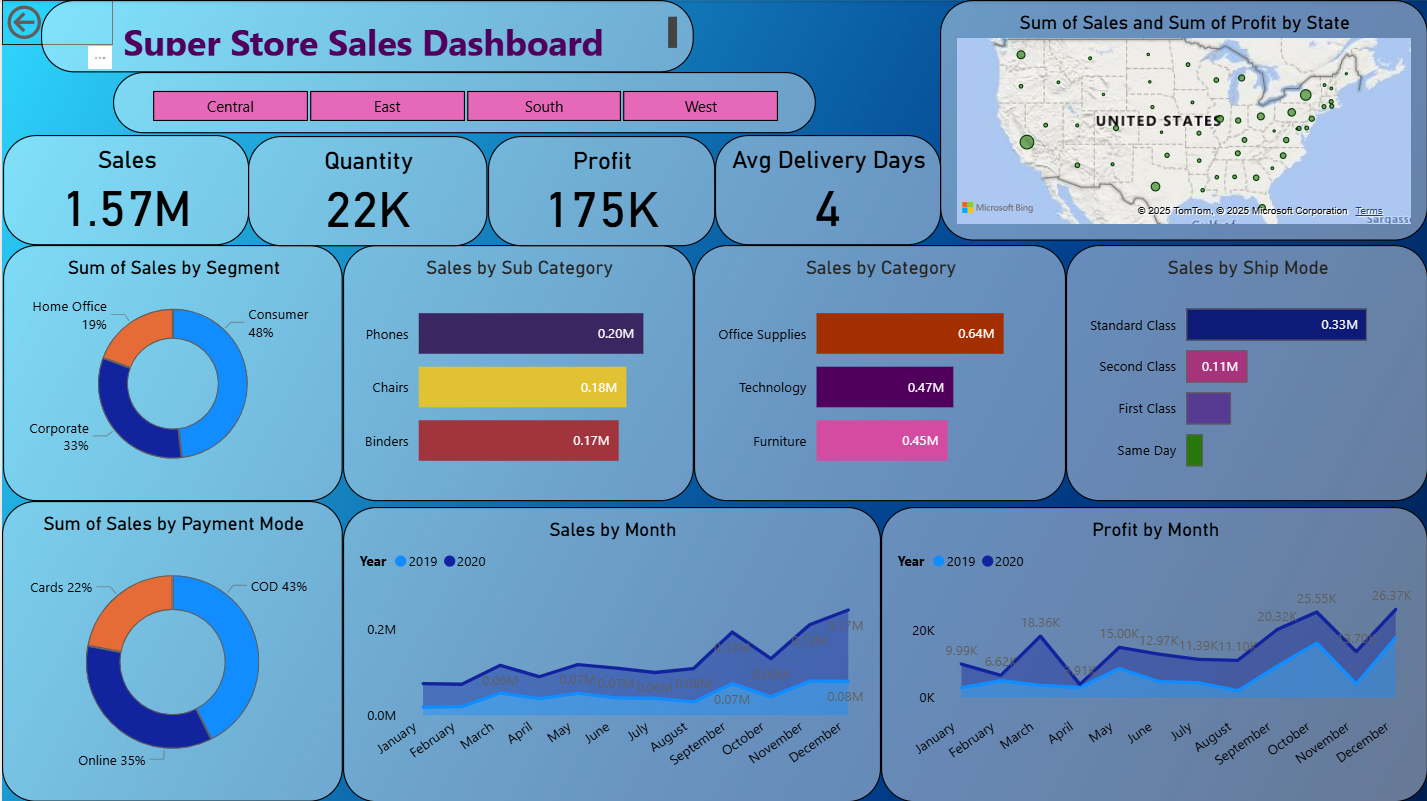

What the dashboard file says about the page in this screenshot:
{"tool":"powerbi","page":{"name":"Dashboard","canvas":[1280,720],"ordinal":0},"visuals":[{"type":"clusteredBarChart","title":"Sales by Category","fields":{"Category":["SuperStore_Sales_Dataset.Category"],"Y":["Sum(SuperStore_Sales_Dataset.Sales)"]},"box":[621.2,220,333.8,230],"z":0},{"type":"clusteredBarChart","title":"Sales by Sub Category","fields":{"Y":["Sum(SuperStore_Sales_Dataset.Sales)"],"Category":["SuperStore_Sales_Dataset.Sub-Category"]},"box":[306.2,220,315,230],"z":1000},{"type":"clusteredBarChart","title":"Sales by Ship Mode","fields":{"Y":["Sum(SuperStore_Sales_Dataset.Sales)"],"Category":["SuperStore_Sales_Dataset.Ship Mode"]},"box":[955,220,325,230],"z":2000},{"type":"stackedAreaChart","title":"Sales by Month ","fields":{"Category":["SuperStore_Sales_Dataset.Order Date.Variation.Date Hierarchy.Month","SuperStore_Sales_Dataset.Order Date.Variation.Date Hierarchy.Day"],"Y":["Sum(SuperStore_Sales_Dataset.Sales)"],"Series":["SuperStore_Sales_Dataset.Order Date.Variation.Date Hierarchy.Year"]},"box":[306.2,455,482.5,265],"z":3000},{"type":"stackedAreaChart","title":"Profit by Month ","fields":{"Category":["SuperStore_Sales_Dataset.Order Date.Variation.Date Hierarchy.Month","SuperStore_Sales_Dataset.Order Date.Variation.Date Hierarchy.Day"],"Series":["SuperStore_Sales_Dataset.Order Date.Variation.Date Hierarchy.Year"],"Y":["Sum(SuperStore_Sales_Dataset.Profit)"]},"box":[788.8,455,491.2,265],"z":4000},{"type":"map","fields":{"Category":["SuperStore_Sales_Dataset.State"],"Size":["Sum(SuperStore_Sales_Dataset.Sales)"]},"box":[842.5,0,437.5,216.2],"z":5000},{"type":"donutChart","fields":{"Category":["SuperStore_Sales_Dataset.Segment"],"Y":["Sum(SuperStore_Sales_Dataset.Sales)"]},"box":[1.2,220,305,230],"z":6000},{"type":"donutChart","fields":{"Y":["Sum(SuperStore_Sales_Dataset.Sales)"],"Category":["SuperStore_Sales_Dataset.Payment Mode"]},"box":[0,450,306.2,270],"z":7000},{"type":"card","title":"Sales","fields":{"Values":["Sum(SuperStore_Sales_Dataset.Sales)"]},"box":[1.2,121.2,221.2,98.8],"z":8000},{"type":"slicer","fields":{"Values":["SuperStore_Sales_Dataset.Region"]},"box":[100,65,631.2,55],"z":9000},{"type":"actionButton","box":[0,0,100,40],"z":10000},{"type":"textbox","box":[35,0,586.2,65],"z":11000},{"type":"card","title":"Quantity","fields":{"Values":["Sum(SuperStore_Sales_Dataset.Quantity)"]},"box":[221.2,122.5,215,98.8],"z":12000},{"type":"card","title":"Profit","fields":{"Values":["Sum(SuperStore_Sales_Dataset.Profit)"]},"box":[436.2,122.5,203.8,98.8],"z":13000},{"type":"card","title":"Avg Delivery Days","fields":{"Values":["Avg(SuperStore_Sales_Dataset.AvgDeliveryDays)"]},"box":[640,121.2,202.5,98.8],"z":14000}]}

Visuals, with their boxes in screenshot pixels (x1, y1, x2, y2), scaled from the page's 1280x720 canvas onto the 1427x801 screenshot:
"Sales by Category" clusteredBarChart: <bbox>693, 245, 1065, 501</bbox>
"Sales by Sub Category" clusteredBarChart: <bbox>341, 245, 693, 501</bbox>
"Sales by Ship Mode" clusteredBarChart: <bbox>1065, 245, 1426, 501</bbox>
"Sales by Month " stackedAreaChart: <bbox>341, 506, 879, 800</bbox>
"Profit by Month " stackedAreaChart: <bbox>879, 506, 1426, 800</bbox>
map - SuperStore_Sales_Dataset.State x Sum(SuperStore_Sales_Dataset.Sales): <bbox>939, 0, 1426, 241</bbox>
donutChart - SuperStore_Sales_Dataset.Segment x Sum(SuperStore_Sales_Dataset.Sales): <bbox>1, 245, 341, 501</bbox>
donutChart - Sum(SuperStore_Sales_Dataset.Sales) x SuperStore_Sales_Dataset.Payment Mode: <bbox>0, 501, 341, 800</bbox>
"Sales" card: <bbox>1, 135, 248, 245</bbox>
slicer - SuperStore_Sales_Dataset.Region: <bbox>111, 72, 815, 134</bbox>
actionButton: <bbox>0, 0, 111, 44</bbox>
textbox: <bbox>39, 0, 693, 72</bbox>
"Quantity" card: <bbox>247, 136, 486, 246</bbox>
"Profit" card: <bbox>486, 136, 714, 246</bbox>
"Avg Delivery Days" card: <bbox>714, 135, 939, 245</bbox>
